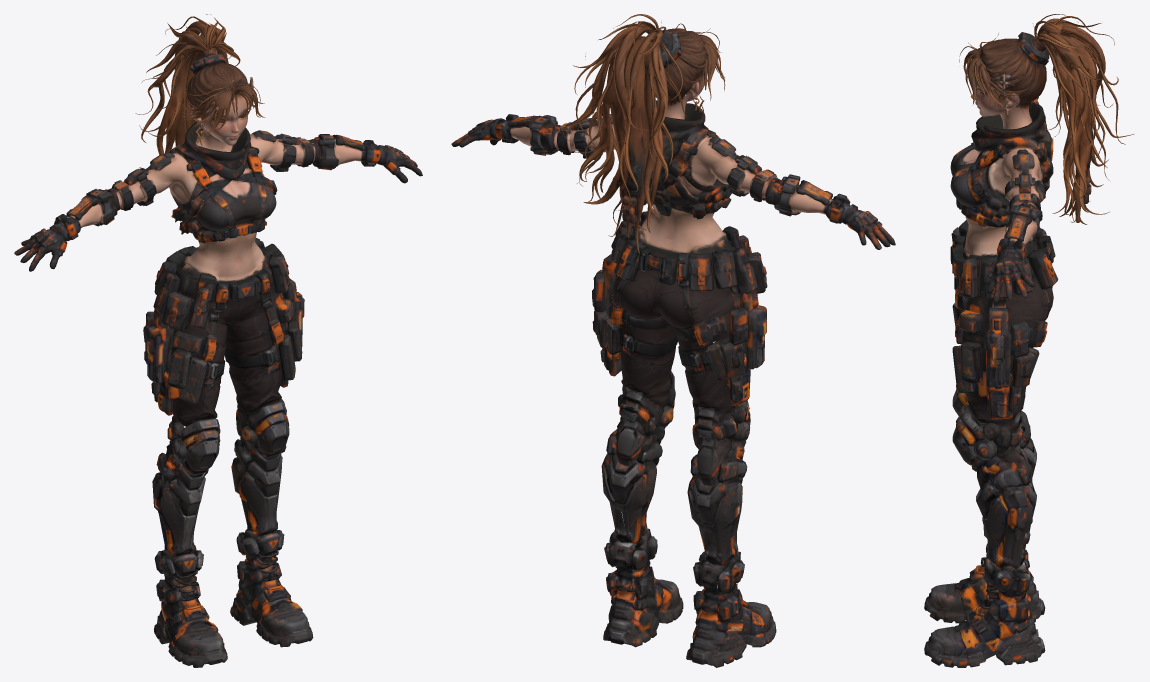
The model's file is miranda.glb.
3 renders of one model, left to right at view 1: azimuth 30°, elevation 25°; view 2: azimuth 150°, elevation 25°; view 3: azimuth 270°, elevation 25°, orthographic. The views are drawn at different scales.
Visible parts, largest first — view 1: tripo_1f5f8c1d_0b47_4b9e_a8b8_72c97df381bd; view 2: tripo_1f5f8c1d_0b47_4b9e_a8b8_72c97df381bd; view 3: tripo_1f5f8c1d_0b47_4b9e_a8b8_72c97df381bd.
Part boxes in pixels (x1,y1,x2,y2): tripo_1f5f8c1d_0b47_4b9e_a8b8_72c97df381bd: [14, 14, 422, 667]; tripo_1f5f8c1d_0b47_4b9e_a8b8_72c97df381bd: [451, 14, 895, 667]; tripo_1f5f8c1d_0b47_4b9e_a8b8_72c97df381bd: [924, 14, 1133, 667].
Bounding box in the file's own units: 0.7026 × 0.9995 × 0.3071.
Materials: 1 (1 with a texture image).
